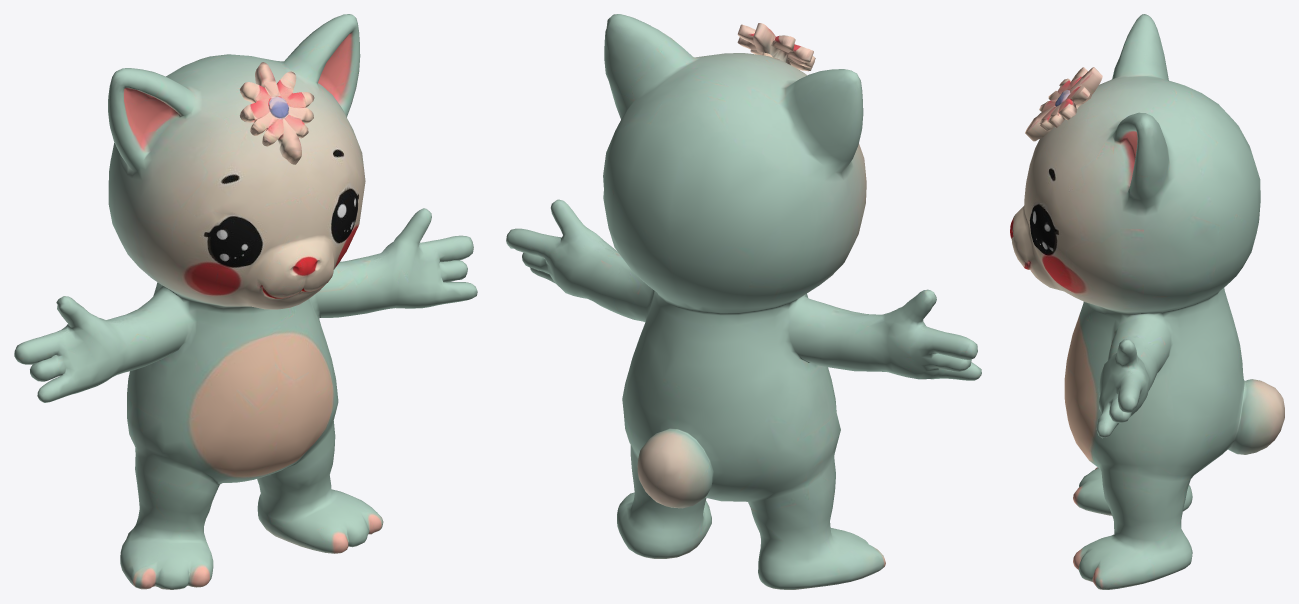
Rendered from c_monggle.glb.
3 views of the same model, side by side, from view 1: azimuth 30°, elevation 25°; view 2: azimuth 150°, elevation 25°; view 3: azimuth 270°, elevation 25° (orthographic). The views are drawn at different scales.
Size of the model in its own units: 0.9019 by 0.9502 by 0.502.
Materials: 1 (1 with a texture image).
